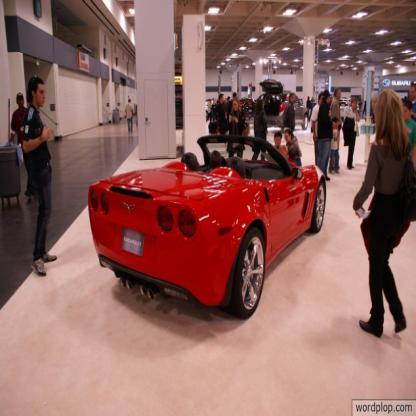Vehicle: (84, 129, 331, 324)
